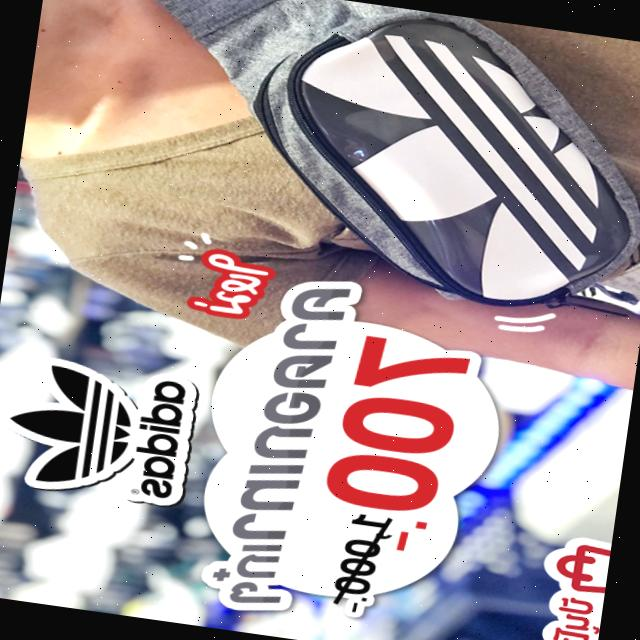Handbag: (108, 0, 640, 325)
